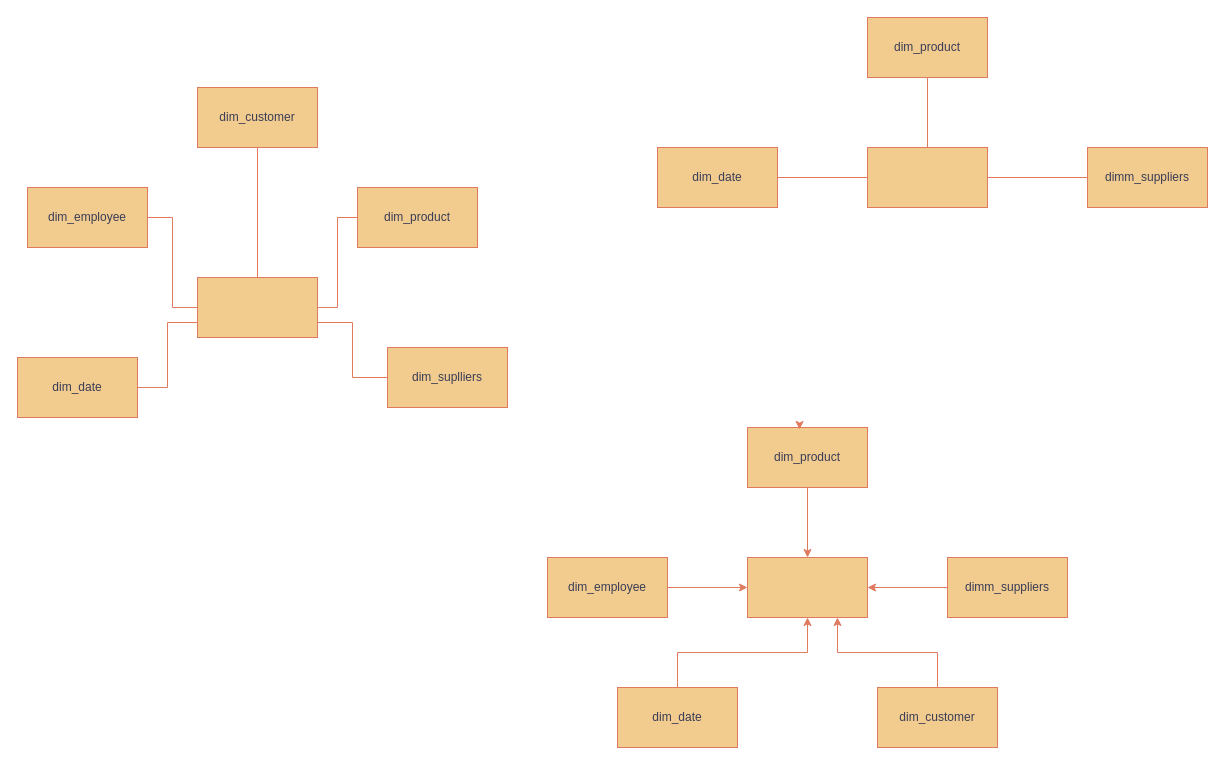
The diagram is 1225 pixels wide and 765 high, and some of its shapes have lost their labels. Here are the shapes that lost their labels. From the top down, the centre of each, then its label:
At (x=927, y=177): "Fact_inventory".
At (x=257, y=307): "Fact_sales".
At (x=807, y=587): "fact_purchase_order".
